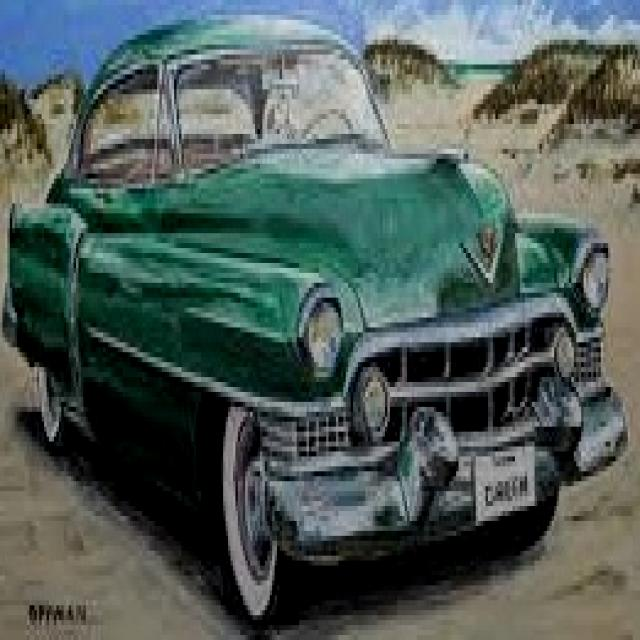green: (5, 15, 628, 618)
